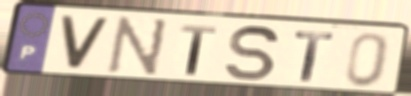0: (342, 31, 393, 90)
N: (103, 15, 172, 80)
S: (223, 24, 282, 84)
T: (293, 29, 336, 84), (179, 23, 220, 77)
V: (56, 13, 113, 73)
